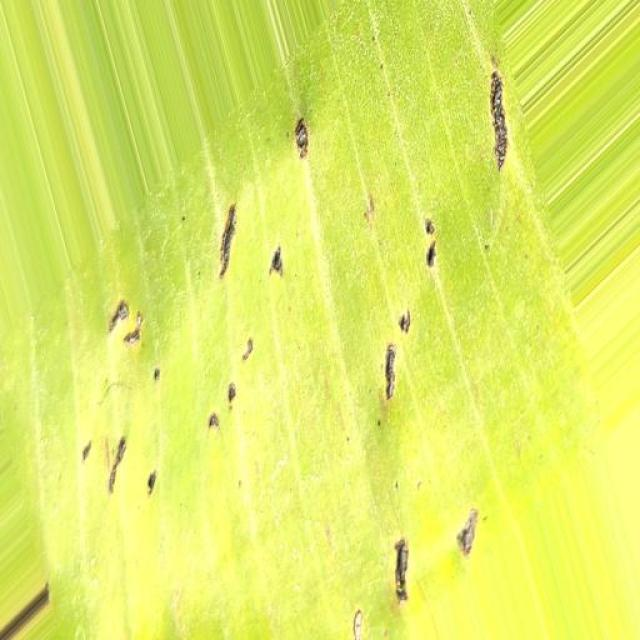Black_rot: (27, 41, 640, 640)
